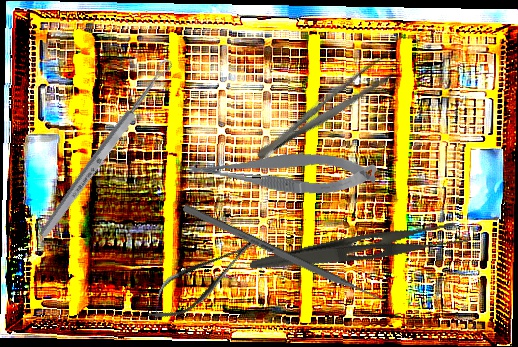Dressing Forceps: (250, 45, 407, 170), (248, 209, 472, 295)
Micro Scissor: (137, 224, 270, 332), (184, 136, 379, 205)
Pusher: (181, 203, 396, 310)
Surgical Spoon: (36, 56, 176, 241)
